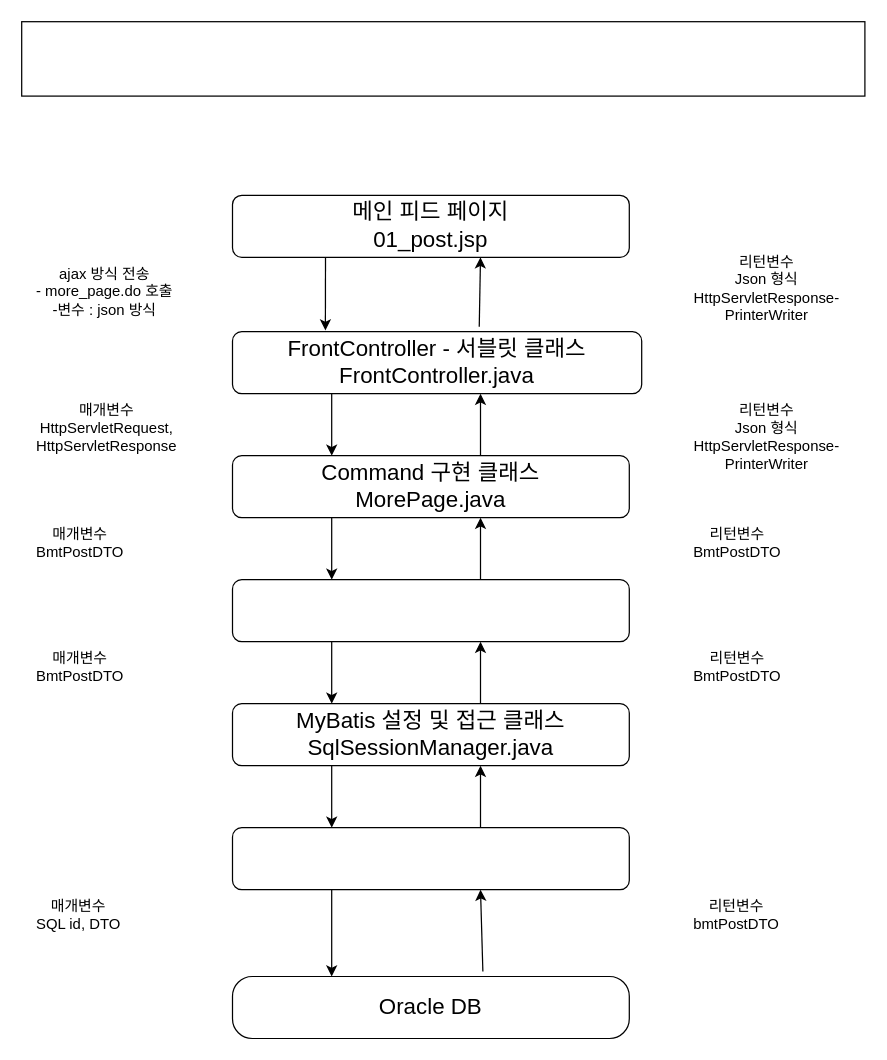
Image size: 887x1060. Some labels were removed from this diagram. The shapes that lost their labels are listed below. From the top down, each one's box as (x1, y1, x2, y2) in pixels, then its label:
(20, 20, 865, 96): 바멘텀 무한스크롤 기능 흐름도
(231, 578, 629, 642): DB Access 클래스 BmtPostDAO.java
(231, 826, 629, 890): MyBatis-mapper bmt_Mapper.xml
